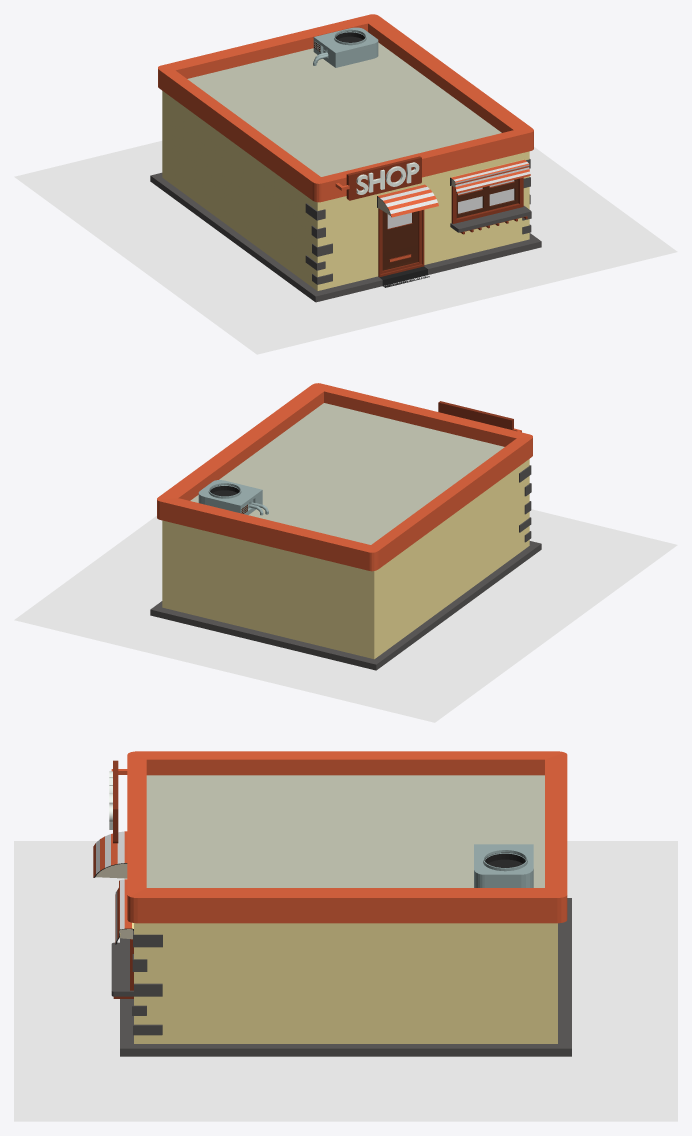
Rendered from shop-general-brick.glb.
The picture shows the model from 3 angles, top to bottom: view 1: azimuth 30°, elevation 25°; view 2: azimuth 150°, elevation 25°; view 3: azimuth 270°, elevation 25°; orthographic projection. The views are drawn at different scales.
Visible parts, largest first — view 1: Cube, Plane, Text; view 2: Cube, Plane; view 3: Cube, Plane.
Boxes of the visible parts, box(x1,y1,x2,y2) form: Cube: box(150, 14, 541, 302); Plane: box(14, 141, 677, 354); Text: box(356, 162, 419, 194); Cube: box(150, 383, 541, 670); Plane: box(14, 509, 677, 722); Cube: box(93, 751, 571, 1056); Plane: box(14, 841, 677, 1121).
Bounding box in the file's own units: 7.25 × 2.1 × 7.25.
